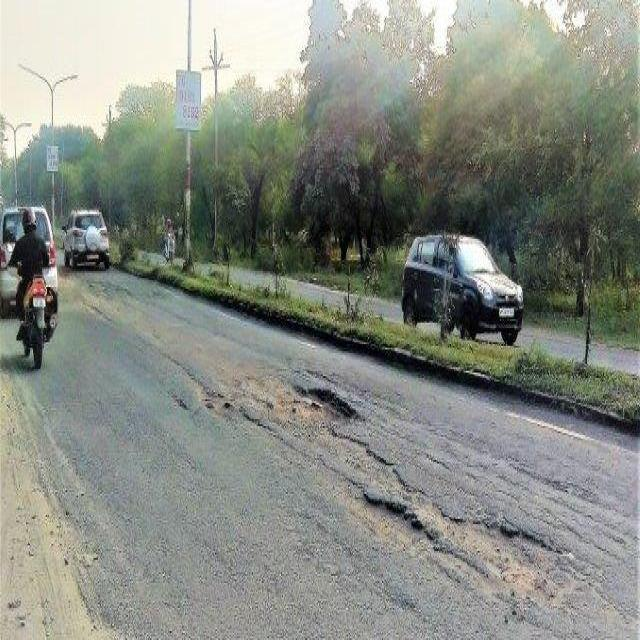jalan retak: (372, 384, 640, 548)
lubang: (213, 350, 367, 446), (442, 504, 560, 610), (165, 345, 274, 448), (281, 362, 370, 429), (345, 481, 423, 553), (83, 270, 137, 310)
